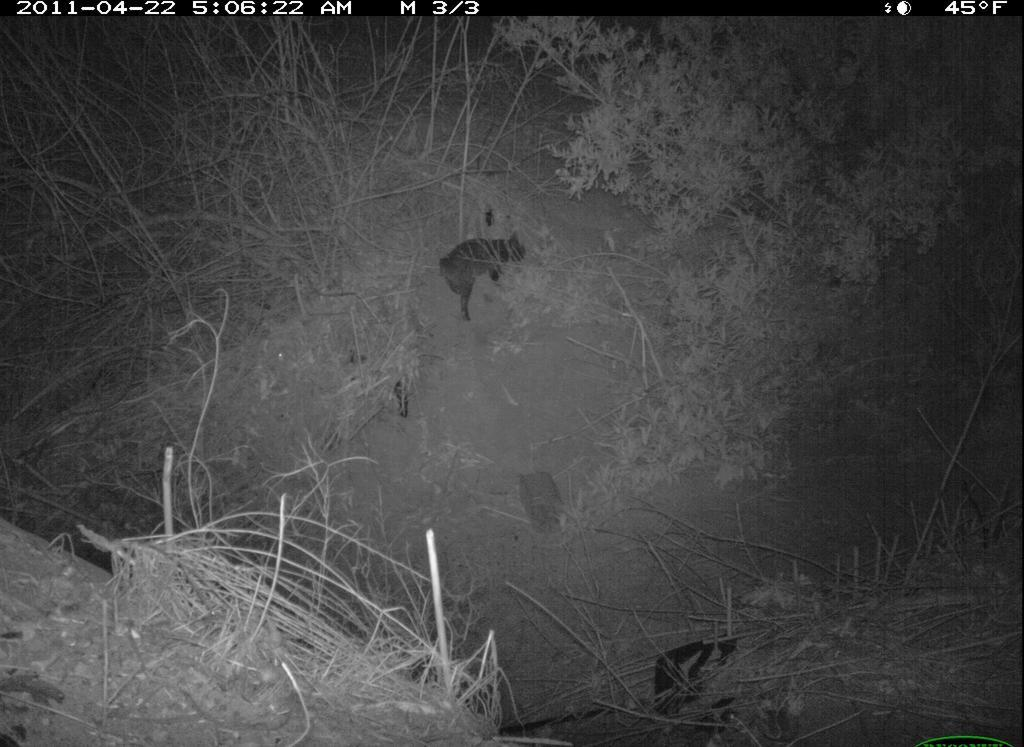cat: (436, 228, 534, 326)
